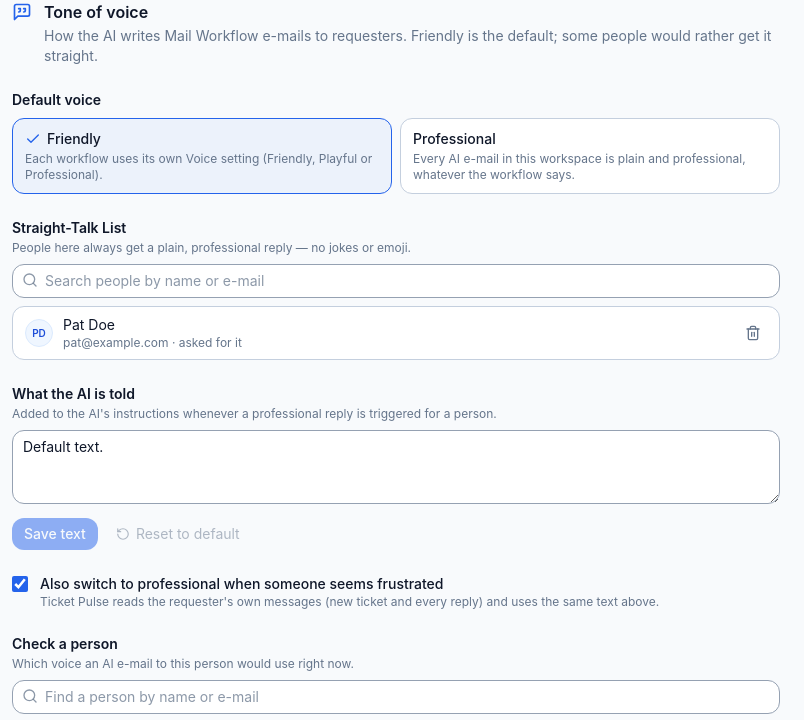
it: ToneOfVoicePanel › checks a person
Check: the text "Pat Doe" is shown, box [63, 316, 115, 333]
Type "pat" into the field named "Person to check" at (396,697), box [12, 680, 780, 714]
(page scrolled)
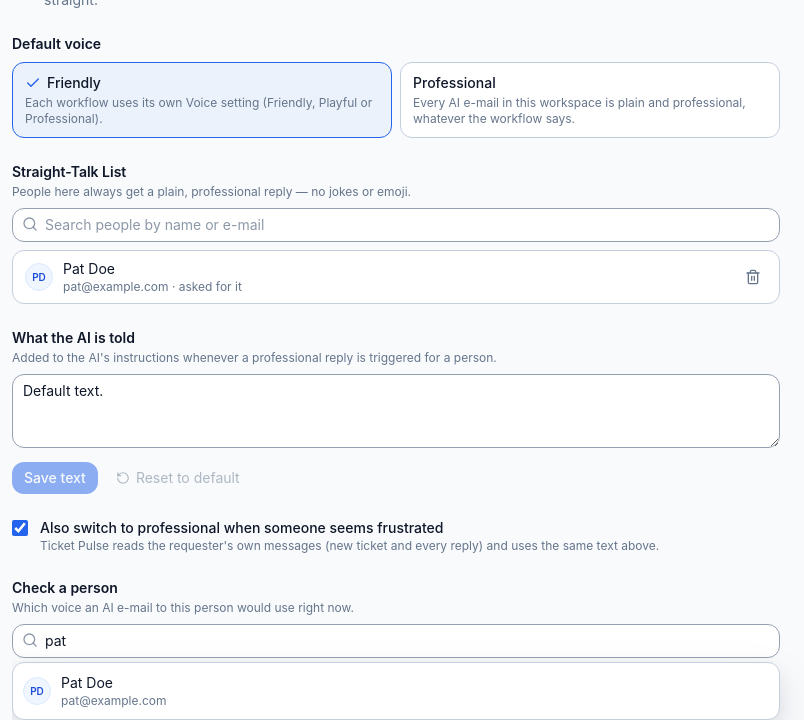
Click the option "PD Pat Doe pat@example.com" at (87,682), box [13, 667, 779, 715]
(page scrolled)
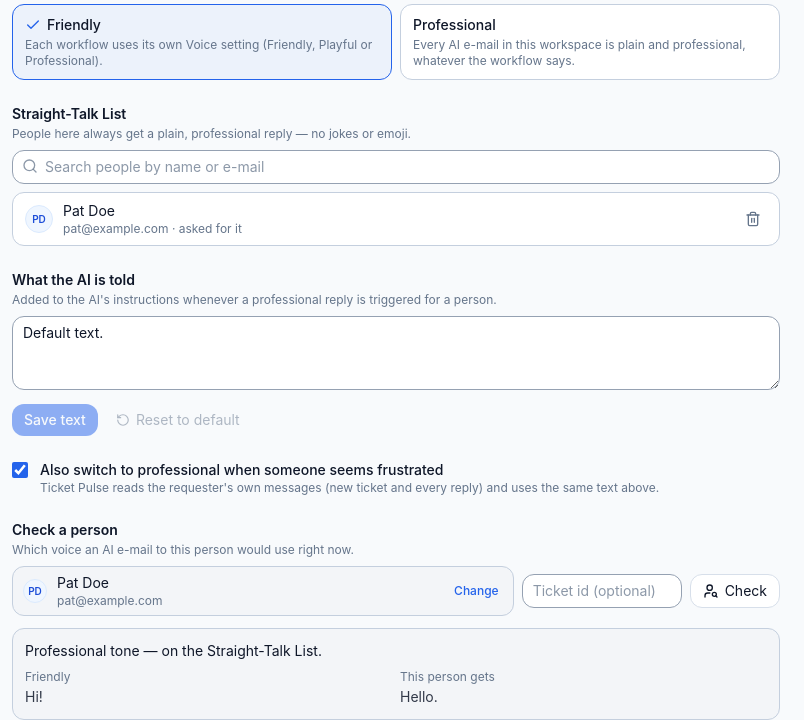
Check: the element with test id "tone-check-person" shows "Pat Doe", box [57, 574, 109, 591]
Check: the element with test id "tone-check-result" shows "Professional tone — on the Straight-Talk List", box [12, 628, 780, 719]
